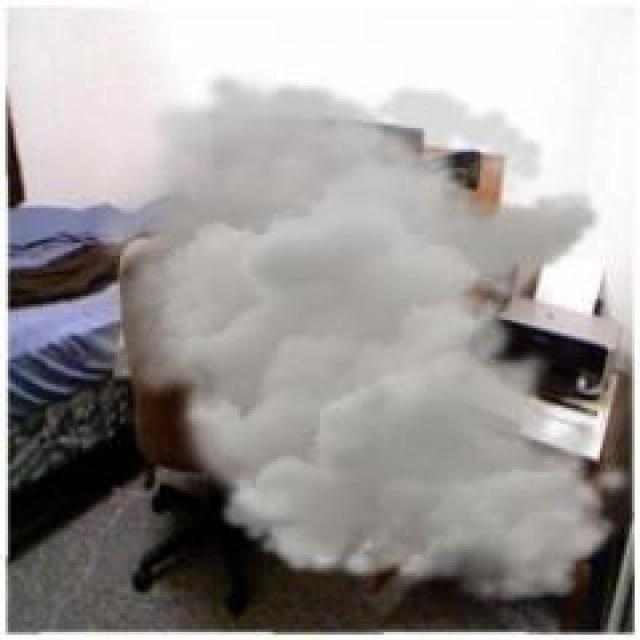Smoke: (75, 68, 638, 607)
